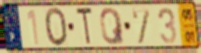1: (27, 9, 40, 46)
3: (157, 7, 177, 45)
7: (131, 6, 151, 45)
O: (44, 6, 70, 48)
Q: (99, 6, 126, 46)
T: (75, 6, 95, 47)
